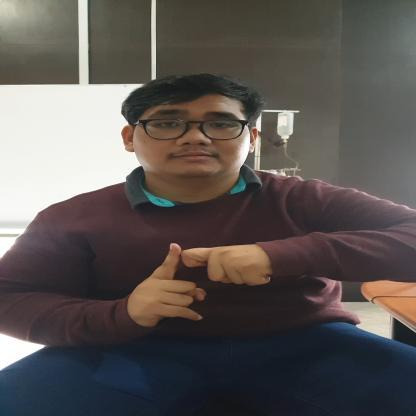K: (122, 240, 280, 330)
